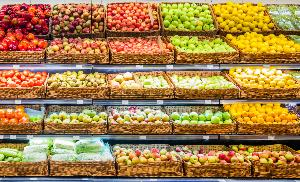apple: (110, 142, 178, 168), (175, 142, 243, 166), (234, 142, 300, 166), (110, 36, 170, 62), (54, 6, 106, 34), (164, 2, 216, 30), (110, 4, 160, 32), (170, 73, 232, 95), (170, 108, 232, 128), (52, 35, 109, 56), (106, 109, 172, 127), (171, 34, 229, 54), (47, 108, 107, 126), (107, 73, 138, 91), (139, 73, 167, 88)
bell_pepper: (0, 3, 52, 33), (0, 102, 38, 126), (0, 36, 48, 54)
lemon: (230, 34, 300, 60), (228, 65, 300, 90), (228, 104, 296, 128), (213, 4, 275, 28)
pear: (49, 72, 108, 94)
tomato: (0, 68, 49, 92)
zucchini: (0, 143, 22, 163)
